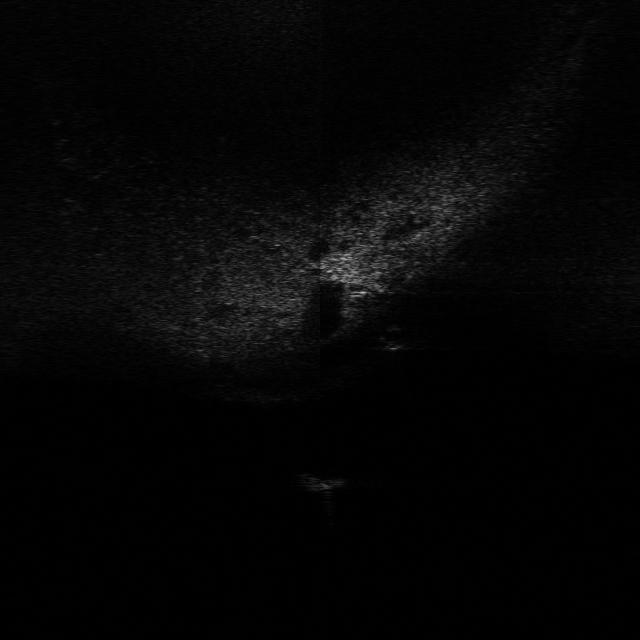ball: (377, 322, 418, 350)
cube: (297, 457, 354, 497)
